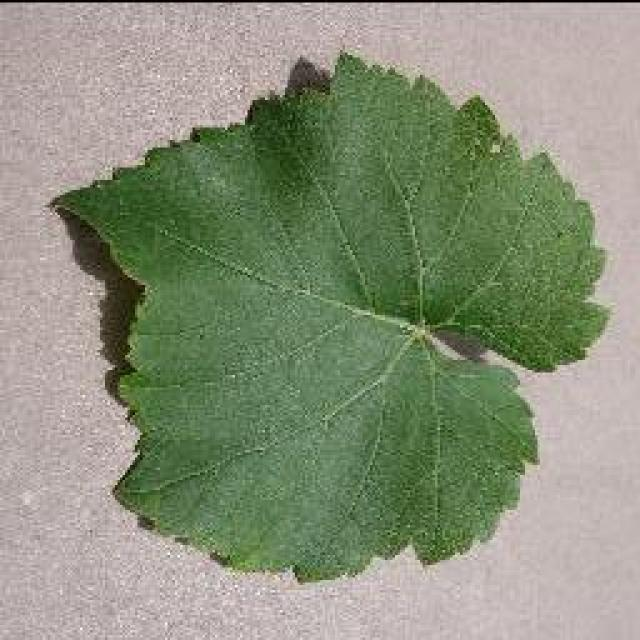Grape___healthy: (55, 55, 605, 578)
